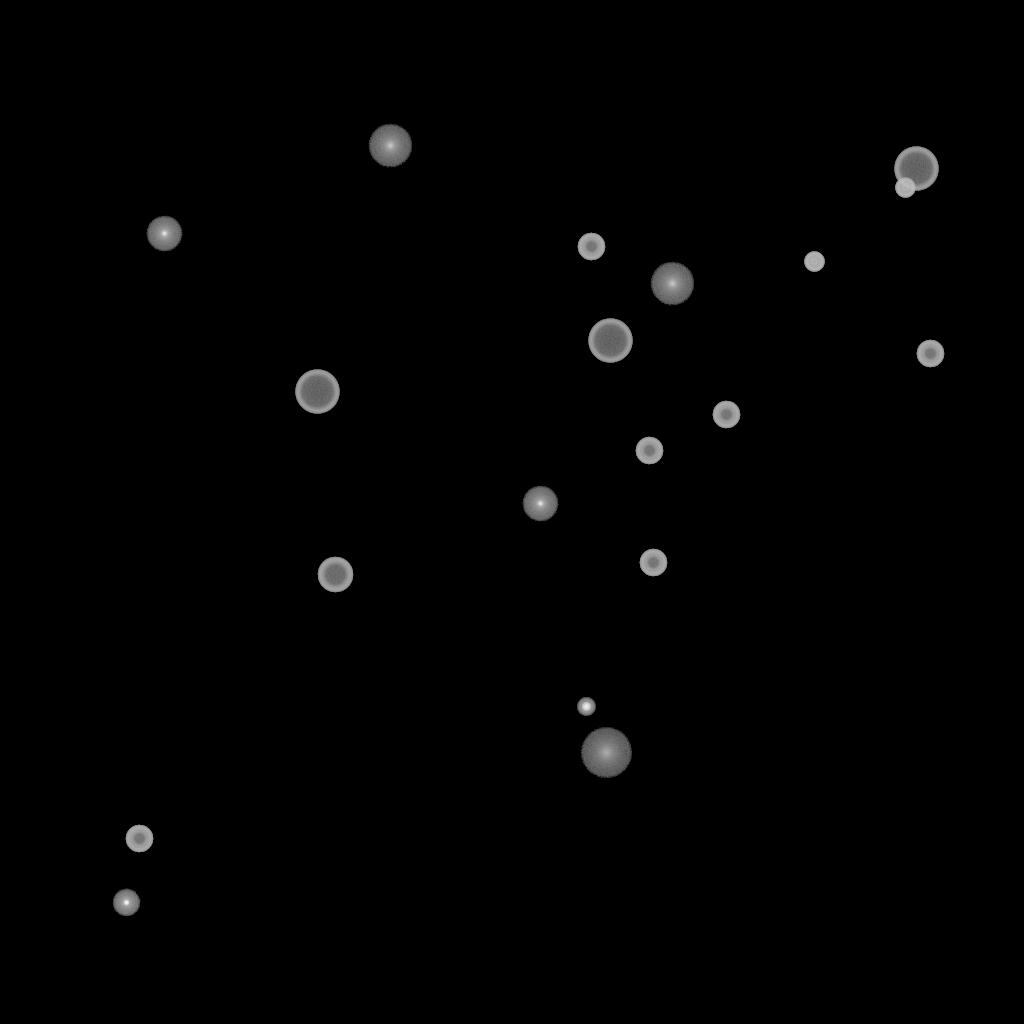depth:-10: (112, 889, 140, 917)
depth:-20: (577, 698, 595, 716)
depth:-40: (804, 252, 824, 272), (895, 178, 915, 198)
depth:-50: (125, 825, 153, 853), (916, 340, 944, 368), (577, 233, 605, 261), (639, 549, 667, 577), (635, 437, 663, 465), (712, 401, 740, 429)
depth:-60: (317, 557, 353, 593)
depth:-70: (894, 147, 938, 191), (295, 370, 339, 414), (588, 319, 632, 363)
depth:0: (146, 216, 182, 252), (522, 486, 558, 522)
depth:10: (368, 124, 412, 168), (650, 262, 694, 306)
depth:20: (580, 728, 632, 778)
